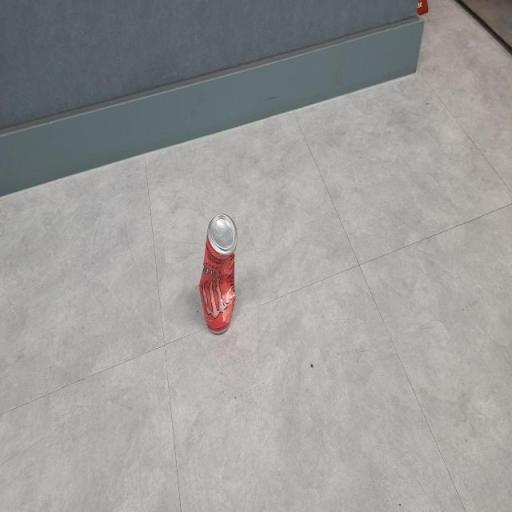metal: (184, 160, 259, 422)
